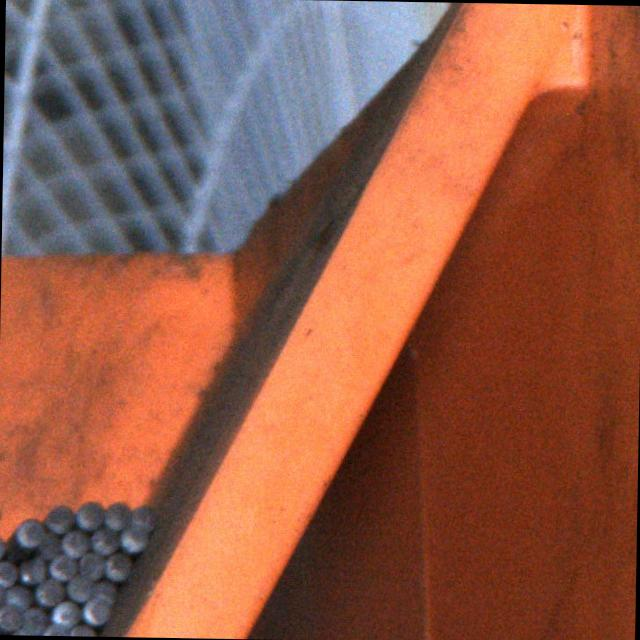tool: (15, 516, 44, 546), (76, 501, 105, 530), (102, 501, 130, 530), (46, 503, 74, 532), (90, 526, 118, 554), (33, 578, 62, 605), (105, 551, 132, 579), (78, 552, 105, 580), (61, 529, 88, 556), (48, 552, 76, 578), (131, 504, 157, 532), (82, 597, 110, 623), (51, 600, 78, 626), (119, 524, 146, 550), (21, 608, 47, 635), (3, 584, 29, 610), (68, 574, 92, 602), (19, 558, 46, 582), (90, 582, 117, 606), (39, 531, 61, 558), (0, 603, 20, 630), (0, 559, 17, 586), (42, 622, 68, 636), (67, 624, 95, 636), (10, 627, 36, 635), (0, 534, 4, 562), (0, 582, 4, 607)
